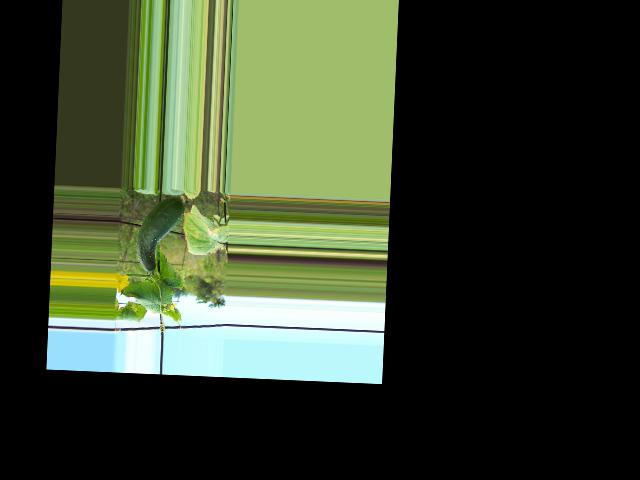cucumber: (135, 195, 185, 274)
